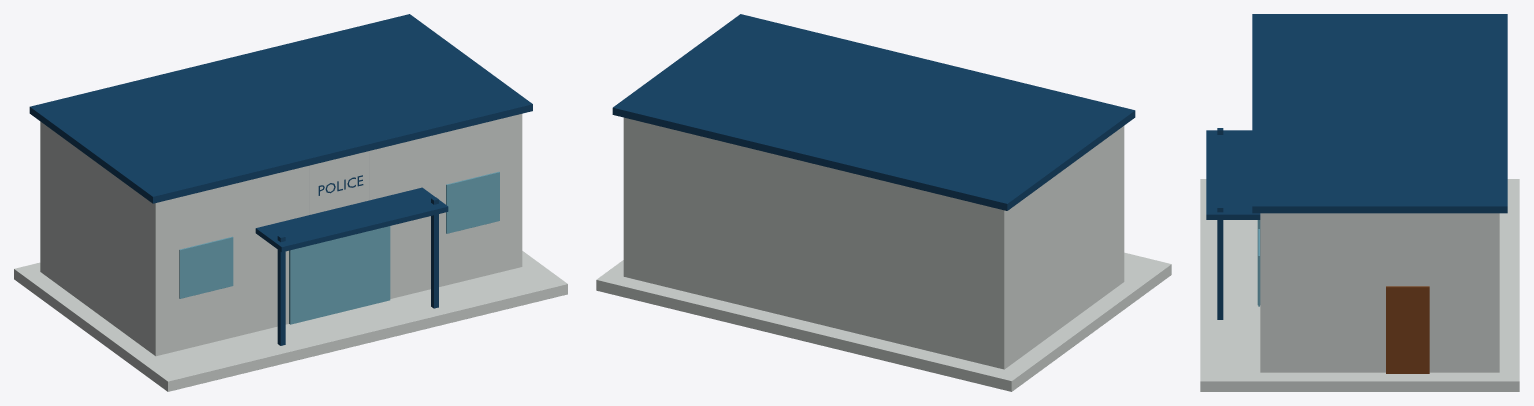
3 renders of one model, left to right at view 1: azimuth 30°, elevation 25°; view 2: azimuth 150°, elevation 25°; view 3: azimuth 270°, elevation 25°, orthographic. The views are drawn at different scales.
Parts seen in each view (by area): view 1: ROOF, FOUNDATION, WING_Main_FrontPier, WING_Main_Side, WING_Main_FrontPier.001, PUBLIC_Recess, RECEPTION_Canopy, WING_Main_EntryHeader, RECEPTION_Window, RECEPTION_Window.001, PUBLIC_Column, PUBLIC_Column.001 (+1 smaller); view 2: WING_Main_Back, ROOF, WING_Main_Side, FOUNDATION; view 3: ROOF, WING_Main_Side.001, FOUNDATION, RECEPTION_Canopy, SERVICE_Door, WING_Main_Back, WING_Main_FrontPier.001, PUBLIC_Column.001.
Boxes of the visible parts, box(x1,y1,x2,y2) form: ROOF: box(29, 14, 532, 203); FOUNDATION: box(14, 251, 567, 391); WING_Main_FrontPier: box(152, 166, 308, 355); WING_Main_Side: box(40, 121, 160, 355); WING_Main_FrontPier.001: box(369, 114, 522, 298); PUBLIC_Recess: box(289, 226, 390, 324); RECEPTION_Canopy: box(255, 187, 448, 252); WING_Main_EntryHeader: box(309, 151, 368, 214); RECEPTION_Window: box(179, 236, 233, 298); RECEPTION_Window.001: box(446, 171, 499, 233); PUBLIC_Column: box(277, 234, 285, 345); PUBLIC_Column.001: box(431, 197, 438, 308); WING_Main_Back: box(623, 117, 1005, 369); ROOF: box(612, 14, 1135, 210); WING_Main_Side: box(999, 126, 1124, 368); FOUNDATION: box(596, 252, 1171, 391); ROOF: box(1252, 14, 1507, 213); WING_Main_Side.001: box(1260, 213, 1498, 372); FOUNDATION: box(1200, 179, 1519, 391); RECEPTION_Canopy: box(1206, 130, 1260, 219); SERVICE_Door: box(1386, 286, 1429, 373); WING_Main_Back: box(1493, 213, 1499, 372); WING_Main_FrontPier.001: box(1260, 213, 1266, 372); PUBLIC_Column.001: box(1217, 205, 1223, 319).
Size of the model in its own units: 12 by 5 by 8.
